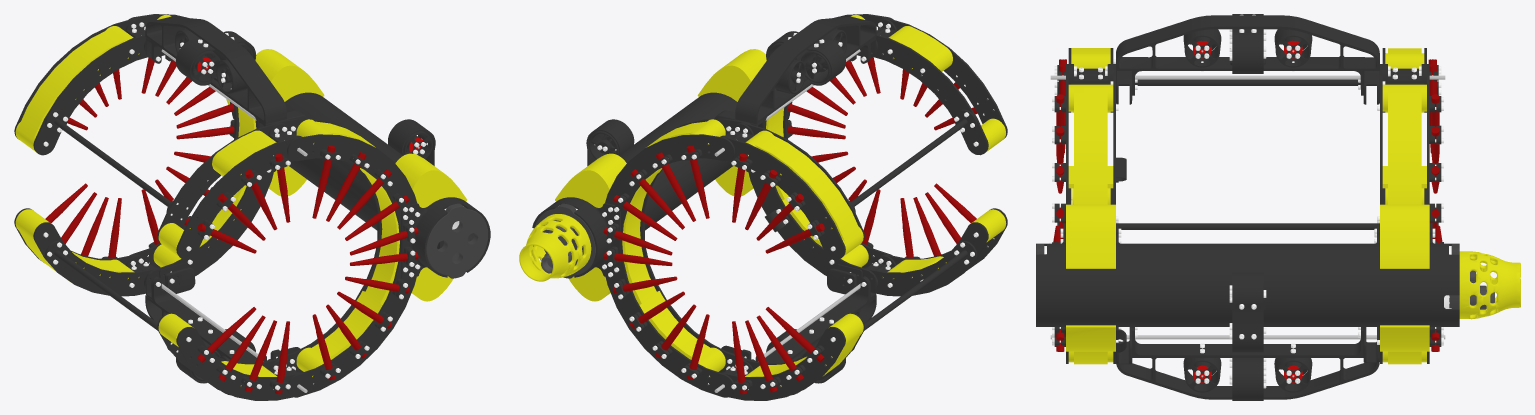
Rendered from COALA3.glb.
The picture shows the model from 3 angles, left to right: view 1: azimuth 30°, elevation 25°; view 2: azimuth 150°, elevation 25°; view 3: azimuth 270°, elevation 25°; orthographic projection. The views are drawn at different scales.
Parts seen in each view (by area): view 1: SubC-01-0005/SubC-02-0033; view 2: SubC-01-0005/SubC-02-0033; view 3: SubC-01-0005/SubC-02-0033.
Part boxes in pixels (left/top/right/bottom): SubC-01-0005/SubC-02-0033: left=14, top=14, right=490, bottom=400; SubC-01-0005/SubC-02-0033: left=519, top=14, right=1007, bottom=400; SubC-01-0005/SubC-02-0033: left=1036, top=14, right=1520, bottom=400.
Size of the model in its own units: 313 by 303 by 357.
2 materials, 2 textured.
